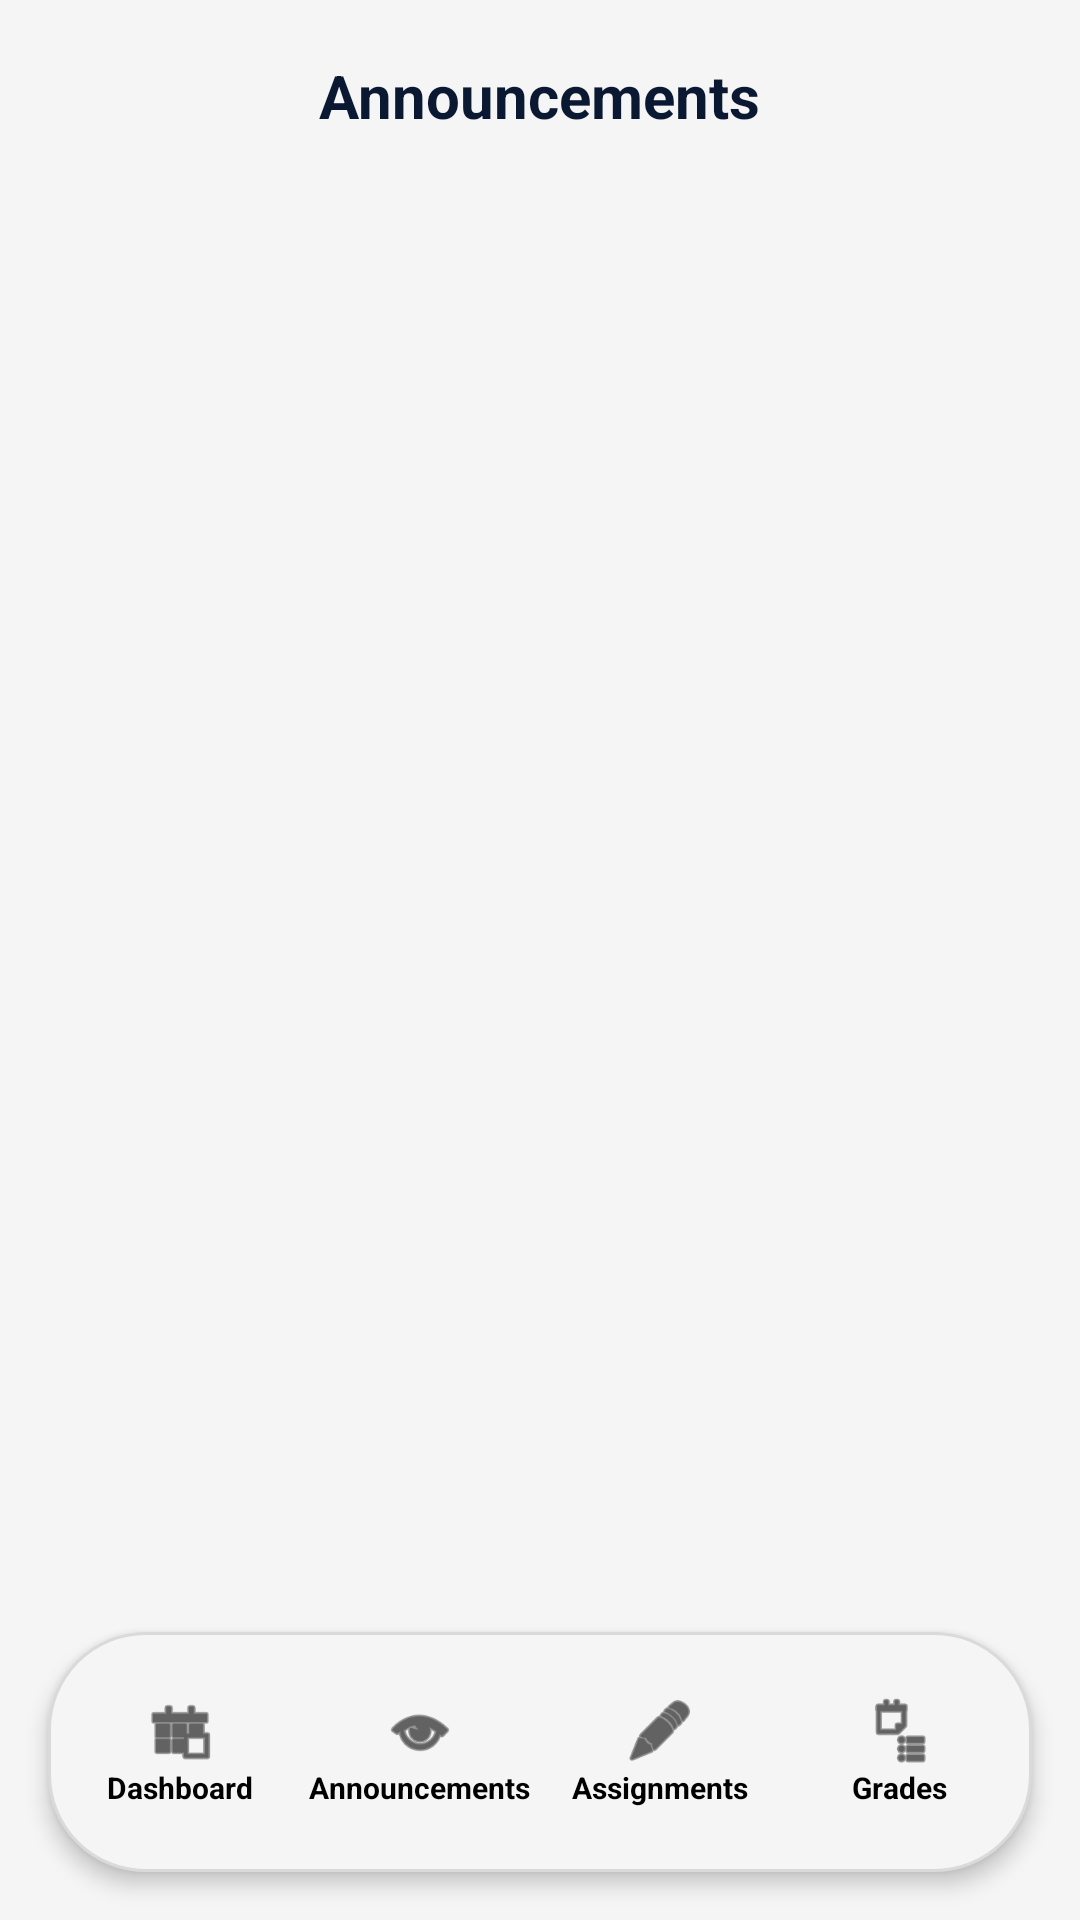

Icons on this 1080w x 1920h Android screen, each with the point to tap as [x,y]:
agenda: [900,1731]
edit: [659,1730]
today: [180,1732]
view: [420,1732]
